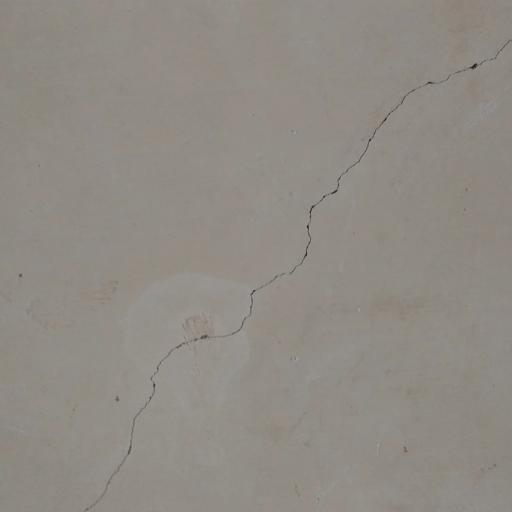minor_crack: (96, 34, 512, 512)
